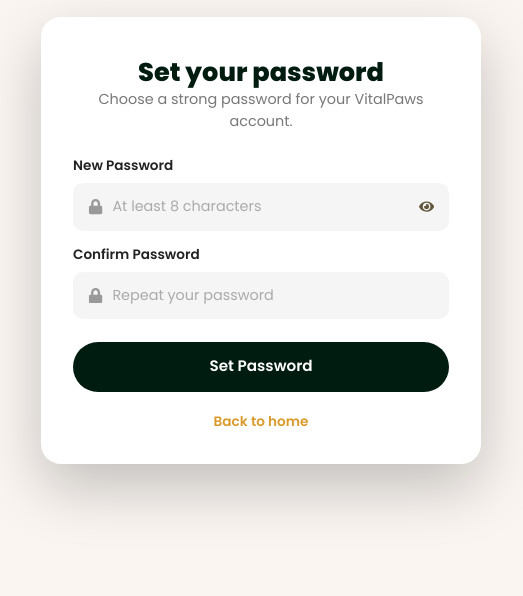
Test: ResetPassword — error handling › shows the API error message from the response body
This screenshot has width=523, height=596.
Type "Password1*" into the password field with placeholder "At least 8 characters".
click(262, 207); type("Password1*")  # box [112,184,411,230]
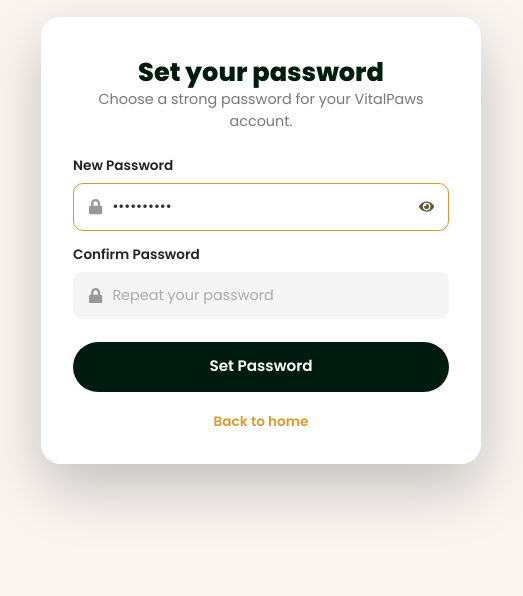
Type "Password1*" into the password field with placeholder "Repeat your password".
click(273, 296); type("Password1*")  # box [112,273,434,318]
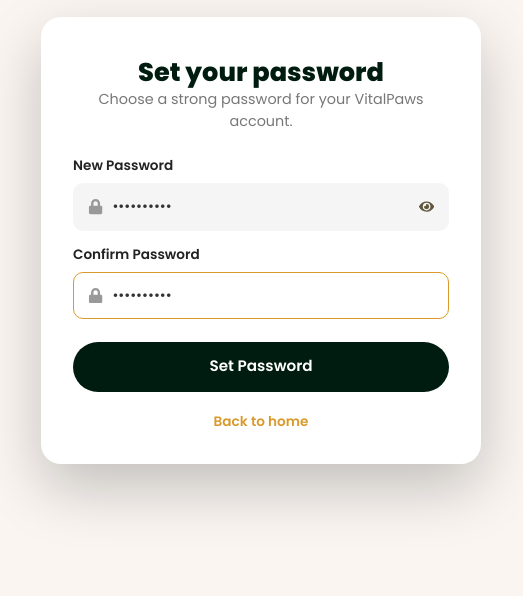
Click the button "Set Password".
click(261, 367)  # box [73,342,449,392]
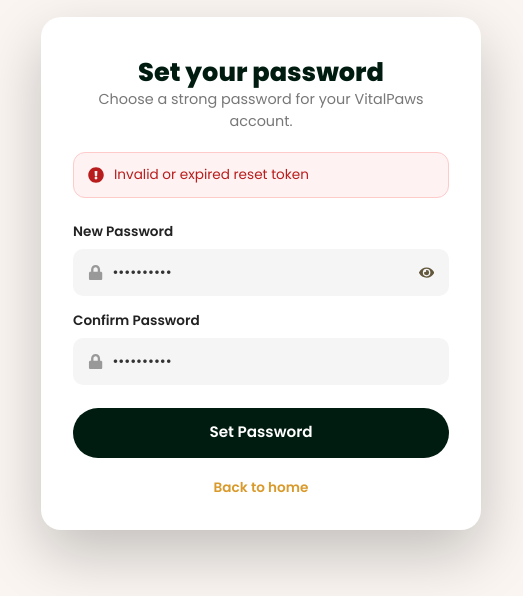
Expected: the text "Invalid or expired reset token" is shown, [114,165,309,185]
